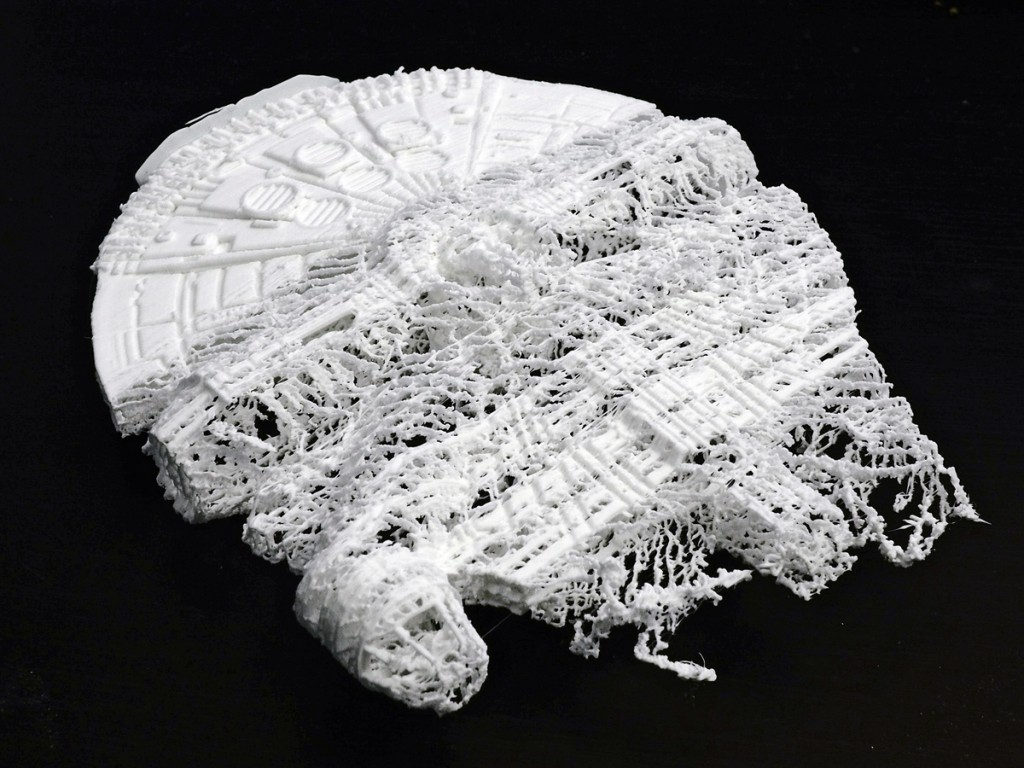fail: (83, 113, 995, 726)
